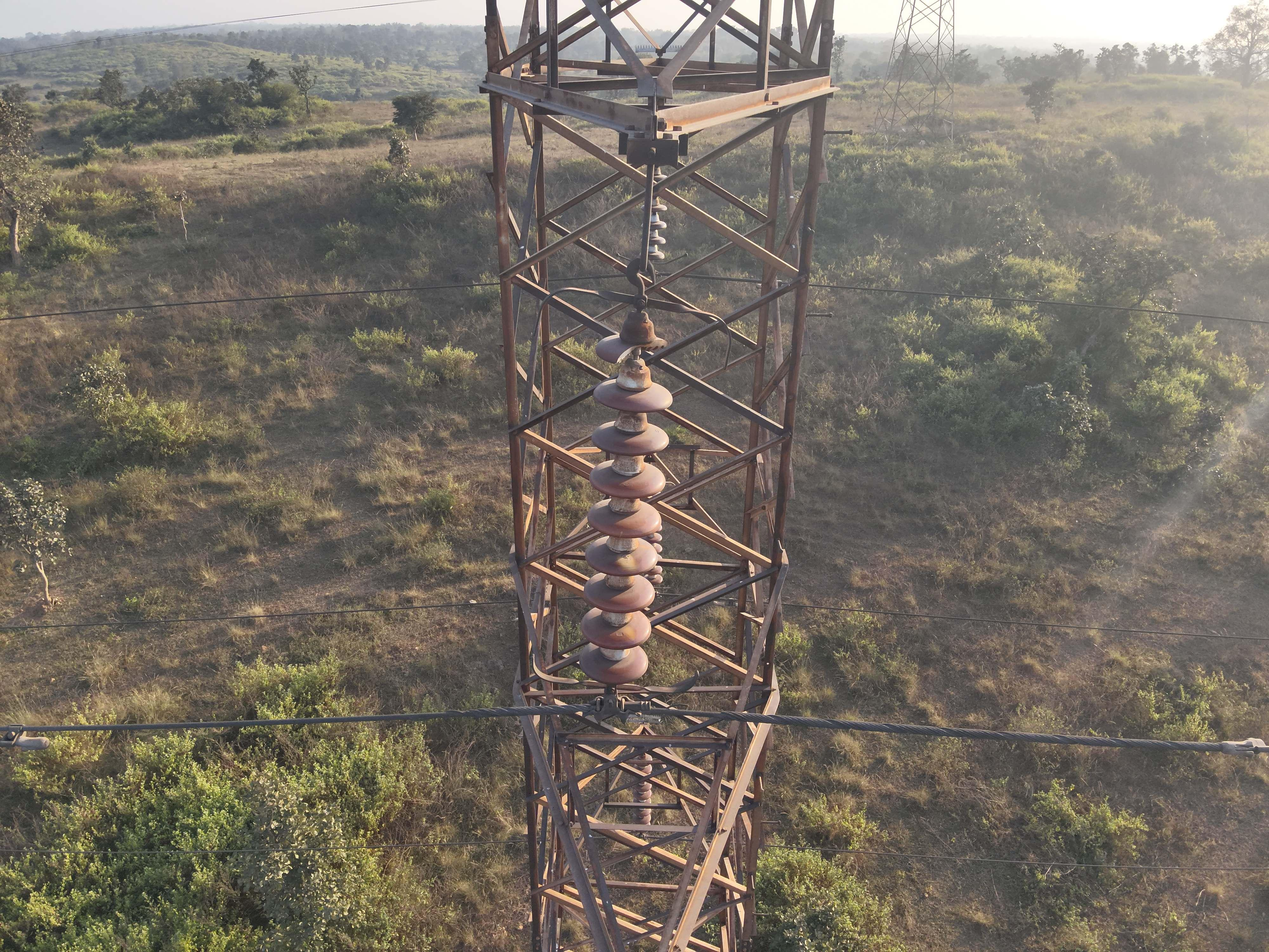broken_insulator: (595, 336, 669, 366)
